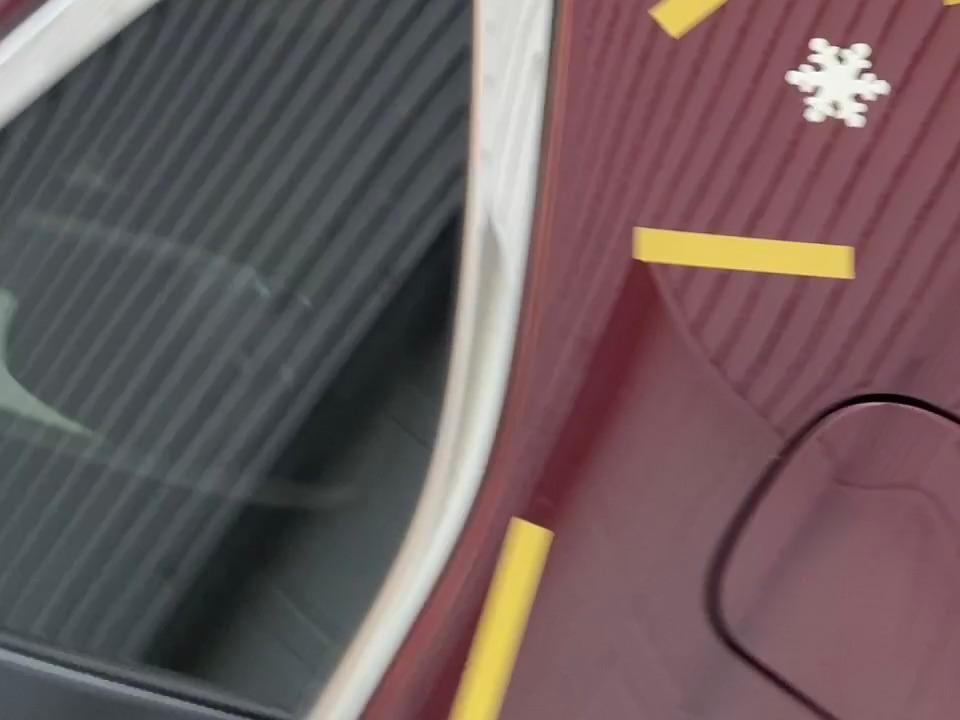dent: (779, 26, 896, 141)
scratch: (441, 513, 567, 720), (619, 214, 876, 301), (646, 0, 809, 48), (906, 0, 960, 10)
